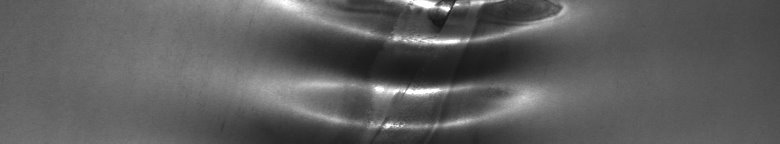ke: (221, 4, 570, 136)
